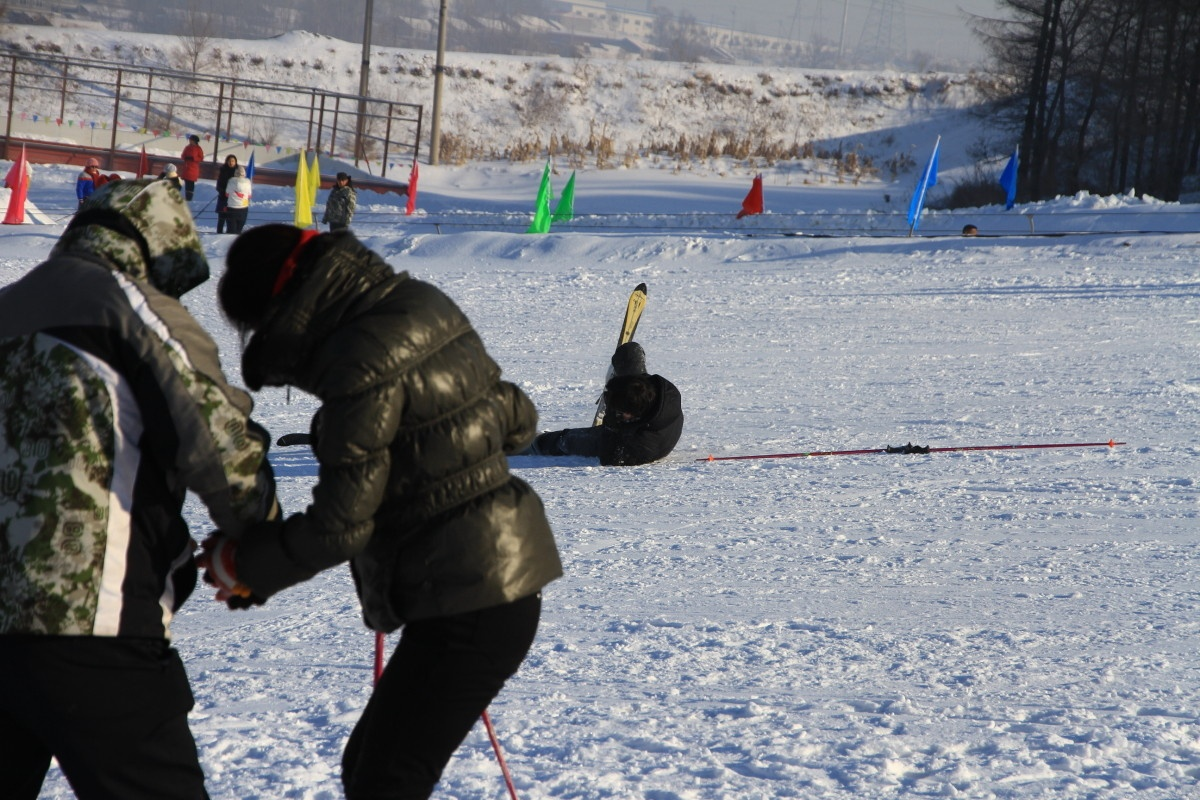falling: (477, 297, 701, 479)
